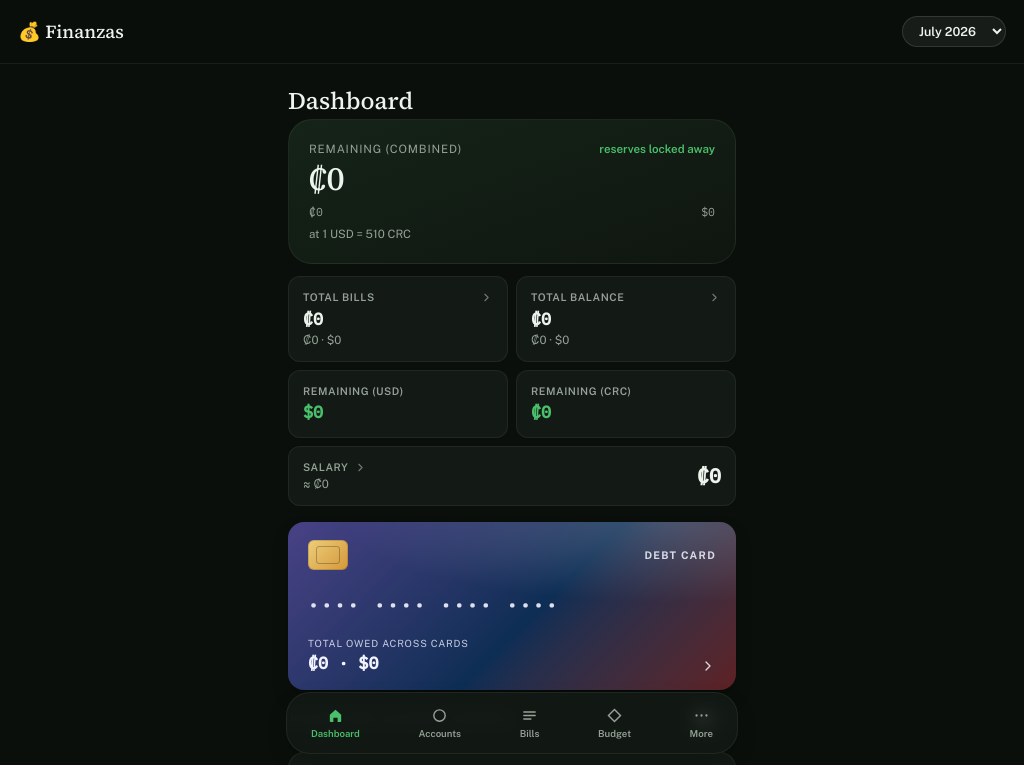
Test case: Settings › switches the language to Spanish everywhere
Click the button "More": (701, 723) [684,703,719,743]
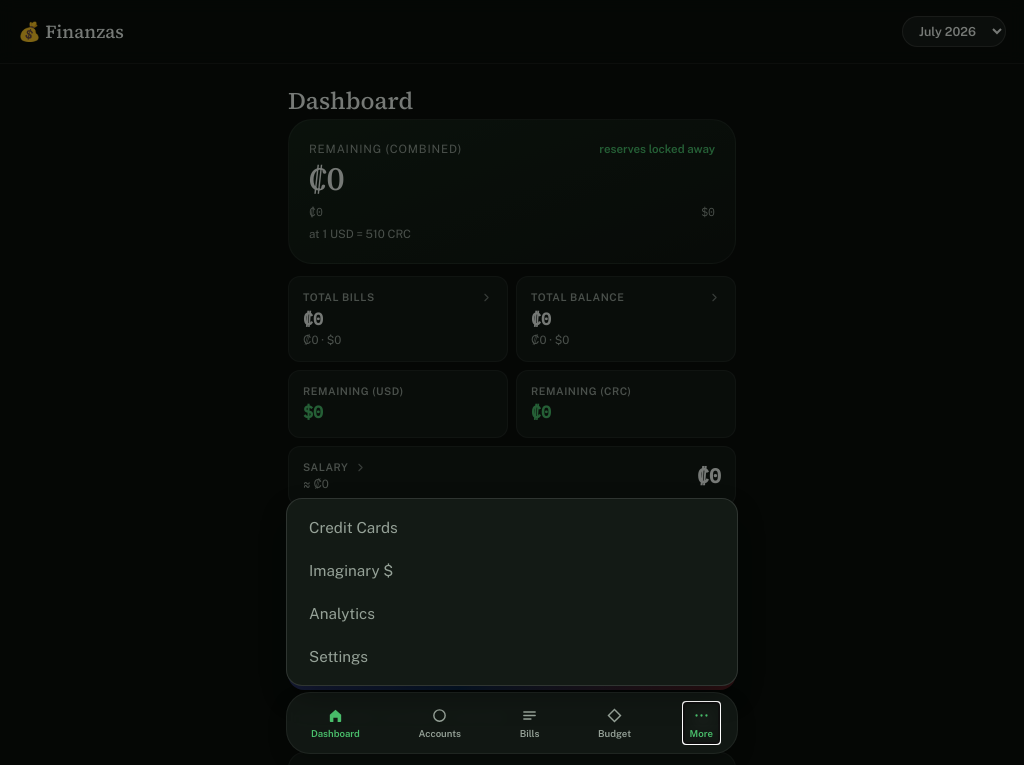
Click the button "Settings": (338, 656) [295,636,729,677]
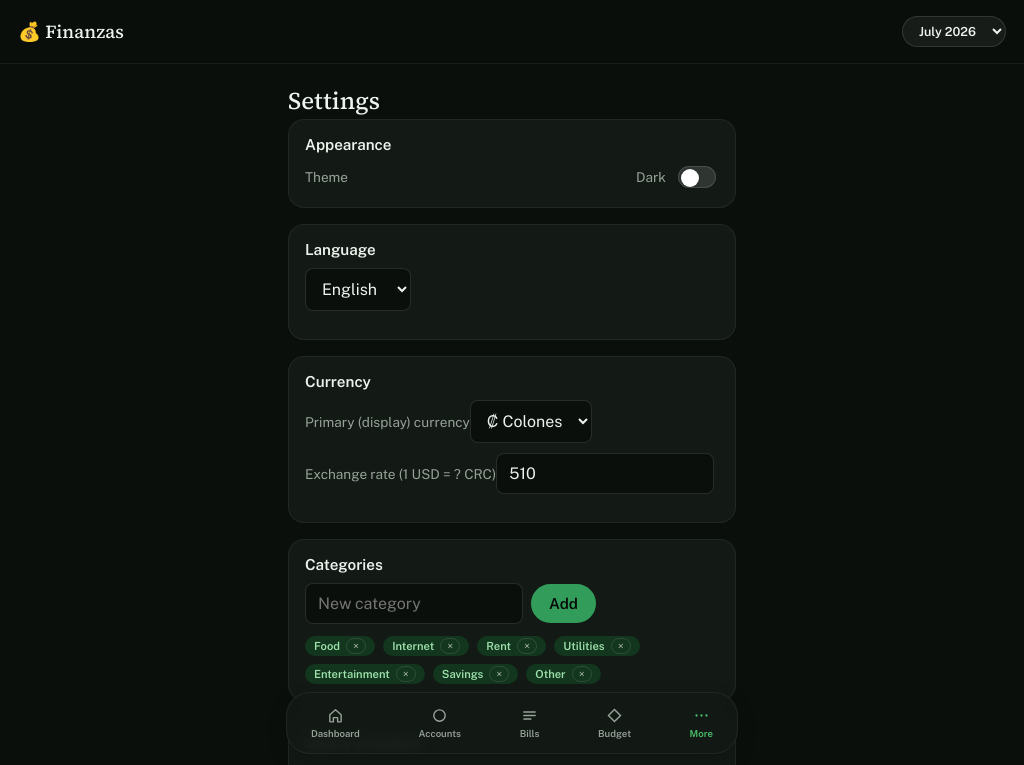
Select "Español" in the dropdown showing "English" below "Language": (358, 290) [305,268,411,311]
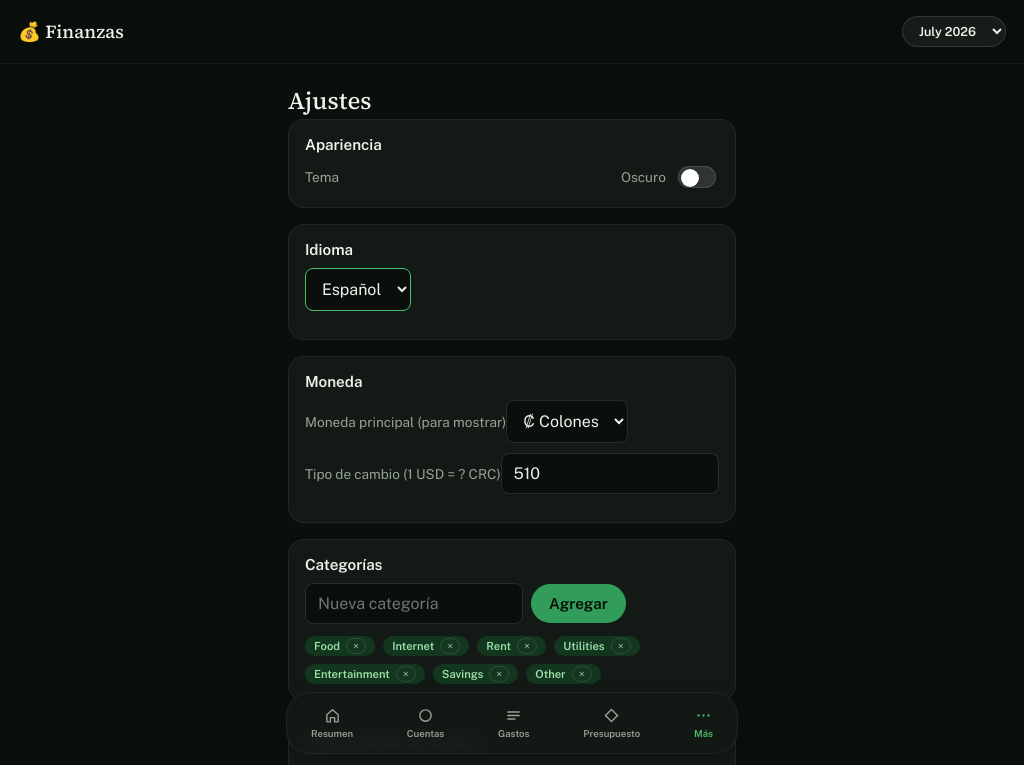
expect the heading "Ajustes" is shown: met, box [288,84,372,117]
Click the button "Resumen": (332, 723) [305,703,359,743]
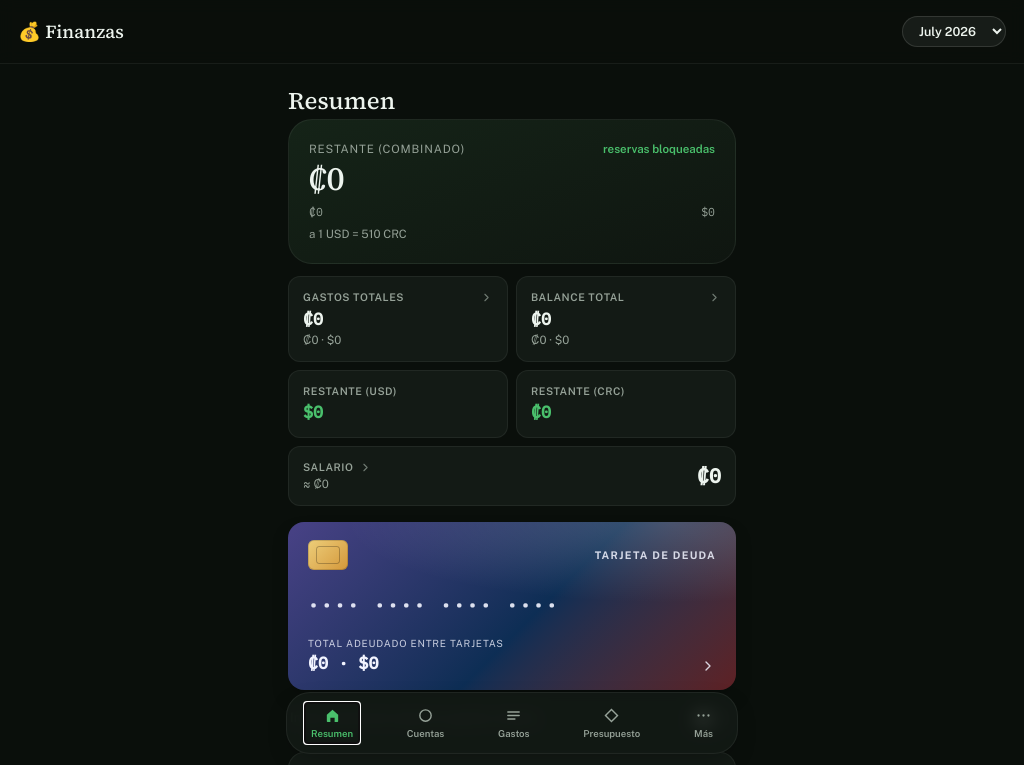
expect the heading "Resumen" is shown: met, box [288,84,395,117]
